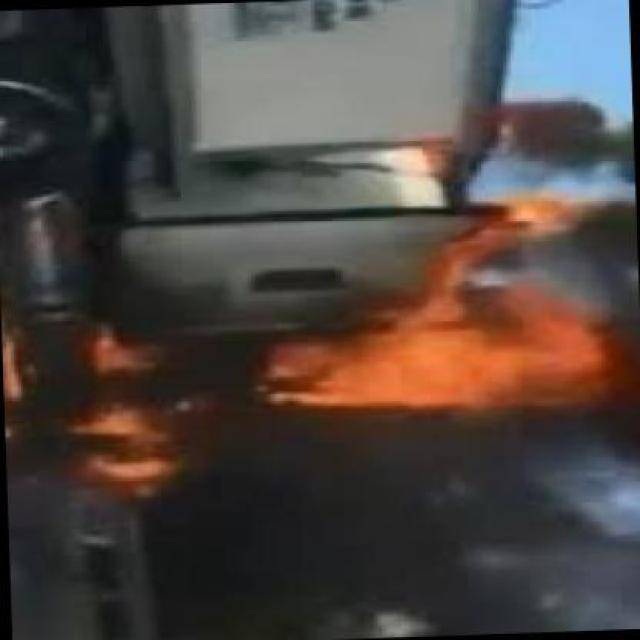Fire: (249, 192, 640, 418), (3, 323, 215, 502)
Smoke: (205, 421, 640, 640), (492, 98, 640, 181), (551, 207, 640, 316)
